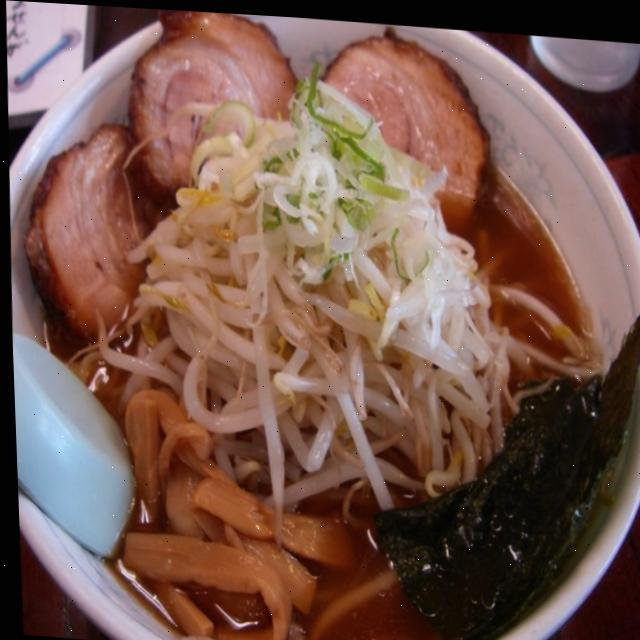面条主食: (6, 17, 624, 640)
